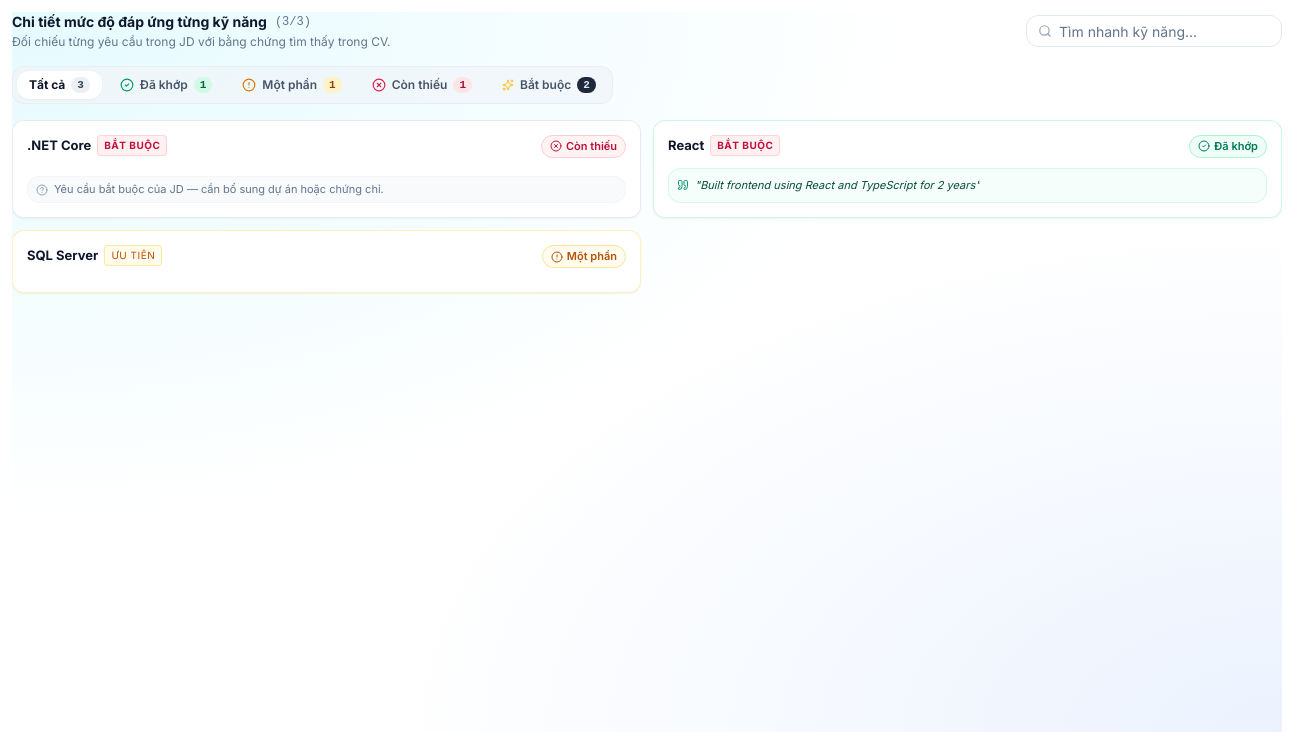
Test: MatchSkillsMatrix › filters by search query
Type "dotnet" into the field with placeholder "Tìm nhanh kỹ năng...".
click(1154, 31); type("dotnet")  # box [1026,15,1282,47]
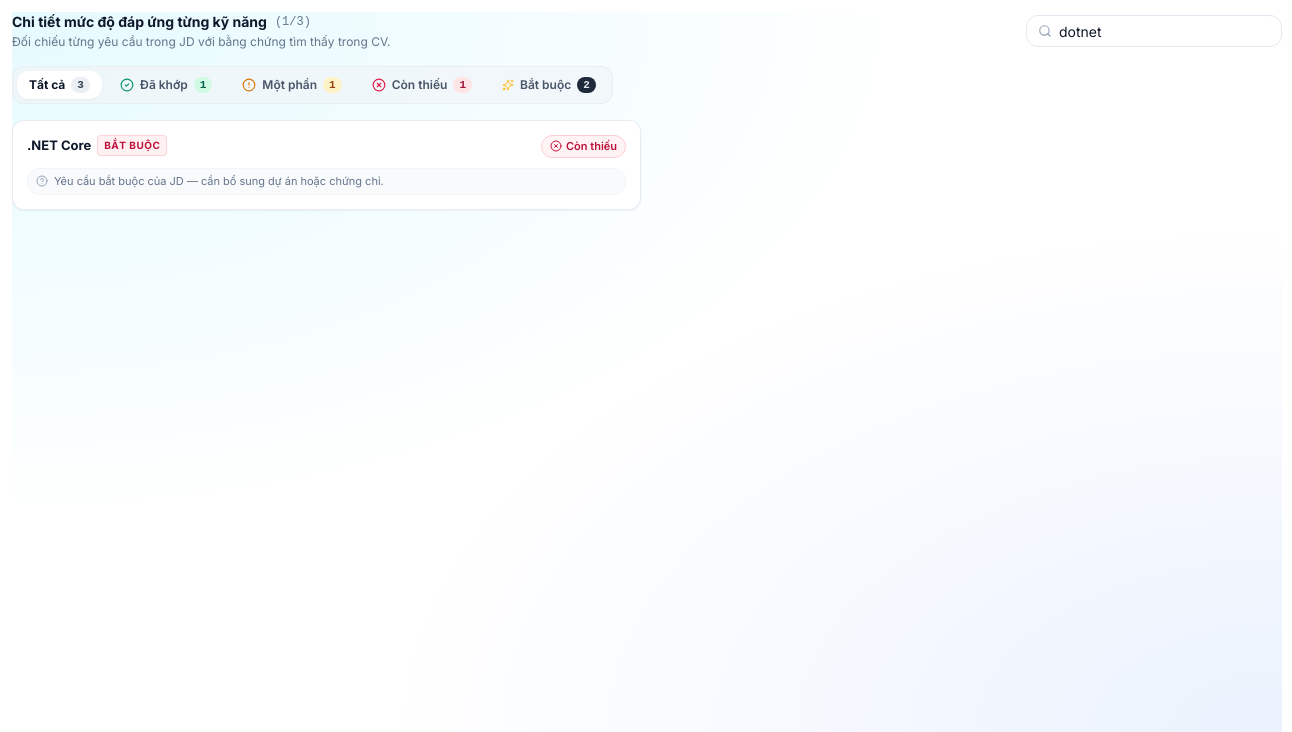
Check: the text ".NET Core" is shown, box [27,137,91,154]
Check: the text "React" is gone
Check: the text "SQL Server" is gone
